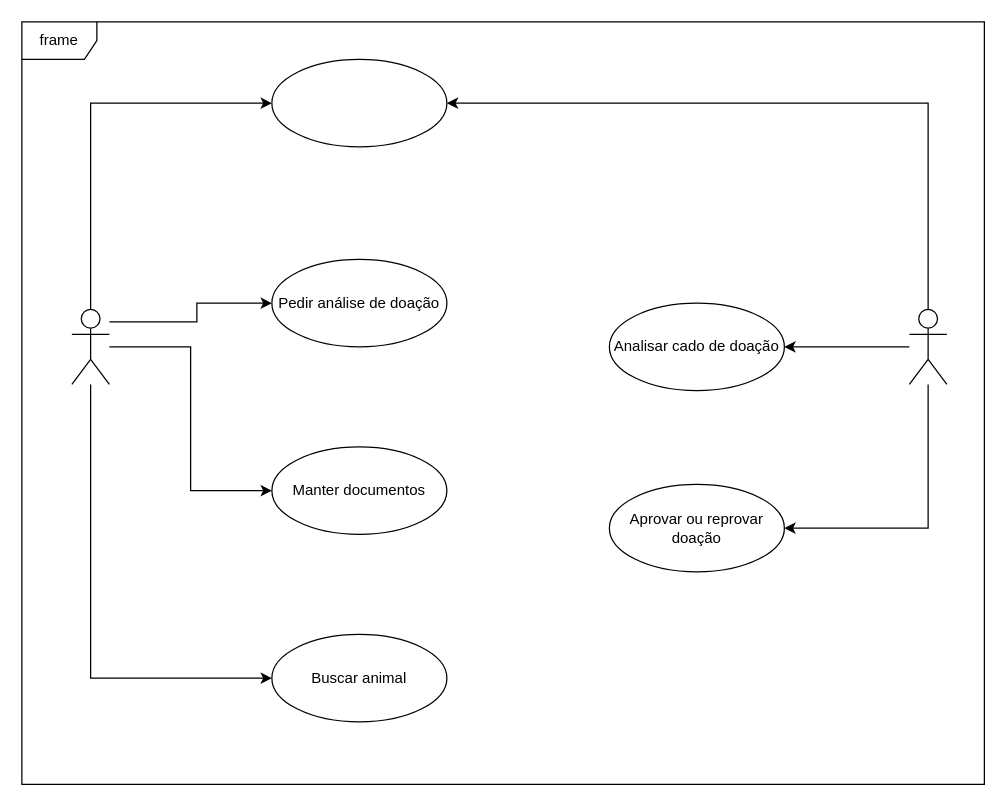
The diagram is 1006 pixels wide and 806 high, and some of its shapes have lost their labels. Each missing label, with the centre of its shape:
"Adotante" belongs at (90,346).
"Atendente" belongs at (927,346).
"Fazer login" belongs at (359,102).
